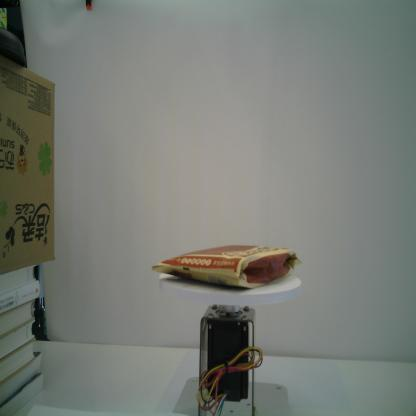Dried Food: (150, 243, 302, 291)
